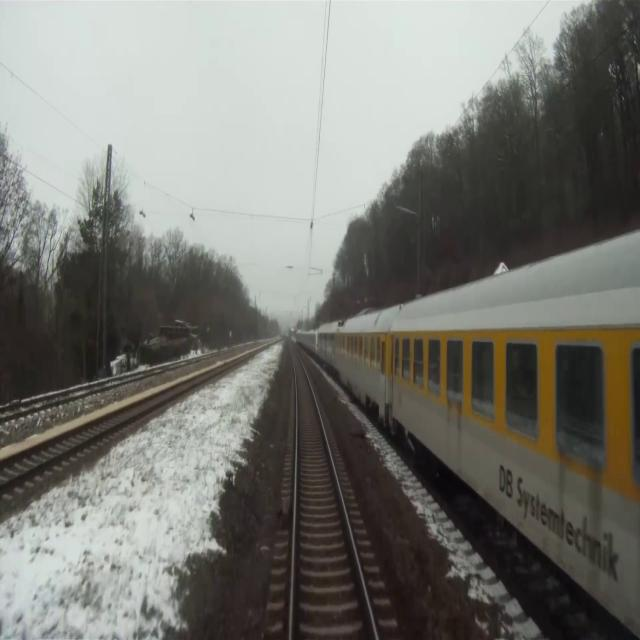rail-track: (292, 348, 374, 639), (0, 372, 212, 480), (0, 376, 133, 414)
